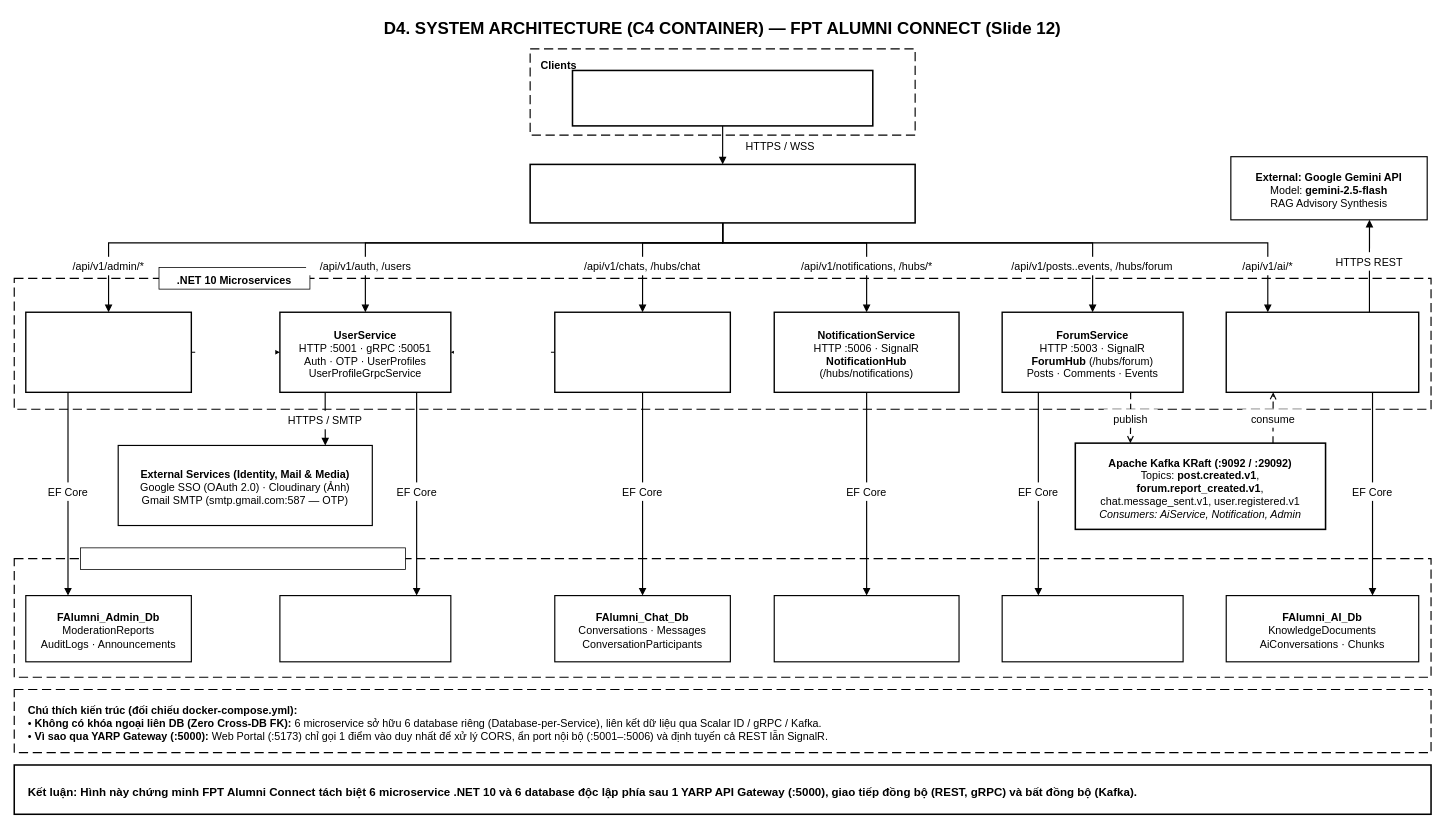
Image size: 1445x828. Some labels were removed from this diagram. Each missing label, with the centre of its shape:
"AdminService HTTP :5005 Moderation · AuditLogs ReportKafkaConsumer" goes at pixel 108 352.
"AiService HTTP :5004 RAG Knowledge · Advisory Mentor Recommendation" goes at pixel 1322 352.
"ChatService HTTP :5002 · SignalR ChatHub (/hubs/chat) Direct & Group Chat" goes at pixel 642 352.
"FAlumni_Forum_Db Posts · Comments · Events PostLikes · Bookmarks" goes at pixel 1092 628.
"FAlumni_Notification_Db Notifications (Realtime + Kafka Store)" goes at pixel 866 628.
"FAlumni_User_Db Users · UserProfiles Tokens · BlockedUsers" goes at pixel 365 628.
"gRPC :50051 GetUserSummary" goes at pixel 502 351.
"REST :5001 (Internal)" goes at pixel 235 351.
"SQL Server 2022 (:14333 → :1433) — 6 DB tách biệt" goes at pixel 242 558.
"Web Portal React 19 + Vite · Port :5173" goes at pixel 722 97.
"YARP API Gateway (:5000) /api/v1/* (REST) · /hubs/* (SignalR WebSocket)" goes at pixel 722 193.
